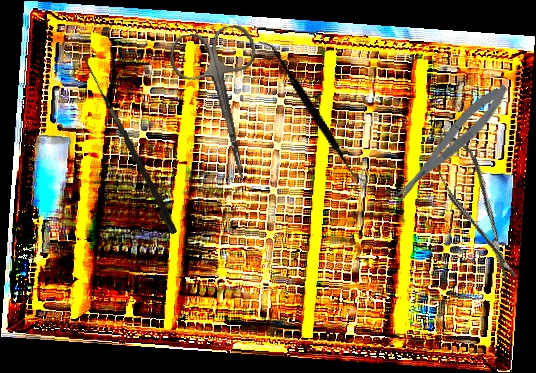Hook Surgical: (73, 53, 182, 236)
Iris Scissors: (165, 21, 284, 192)
Micro Scissor: (383, 78, 515, 210), (425, 125, 525, 289)
Spatula Surgical: (223, 39, 400, 184)
